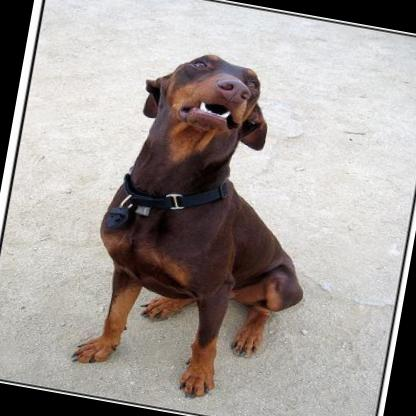Doberman: (58, 32, 346, 416)
